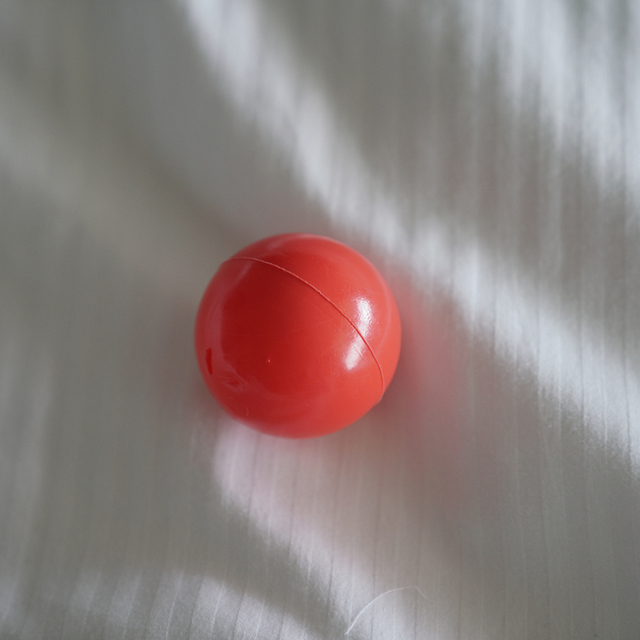Ball: (202, 235, 405, 433)
